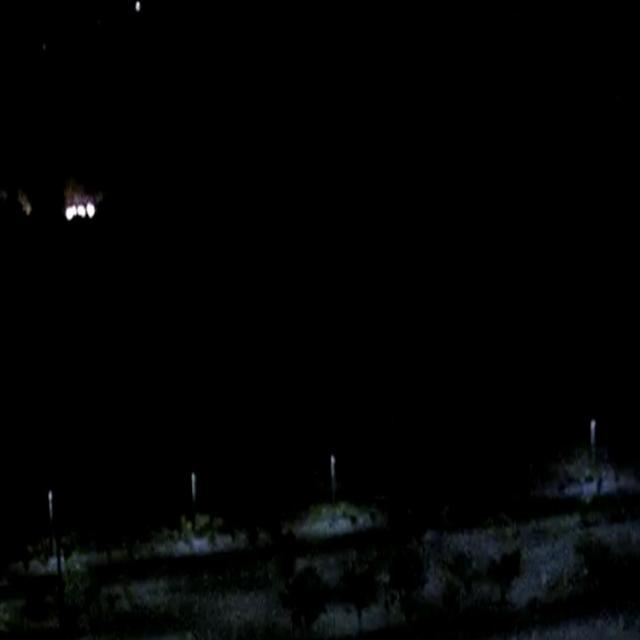Fire: (62, 190, 98, 220)
